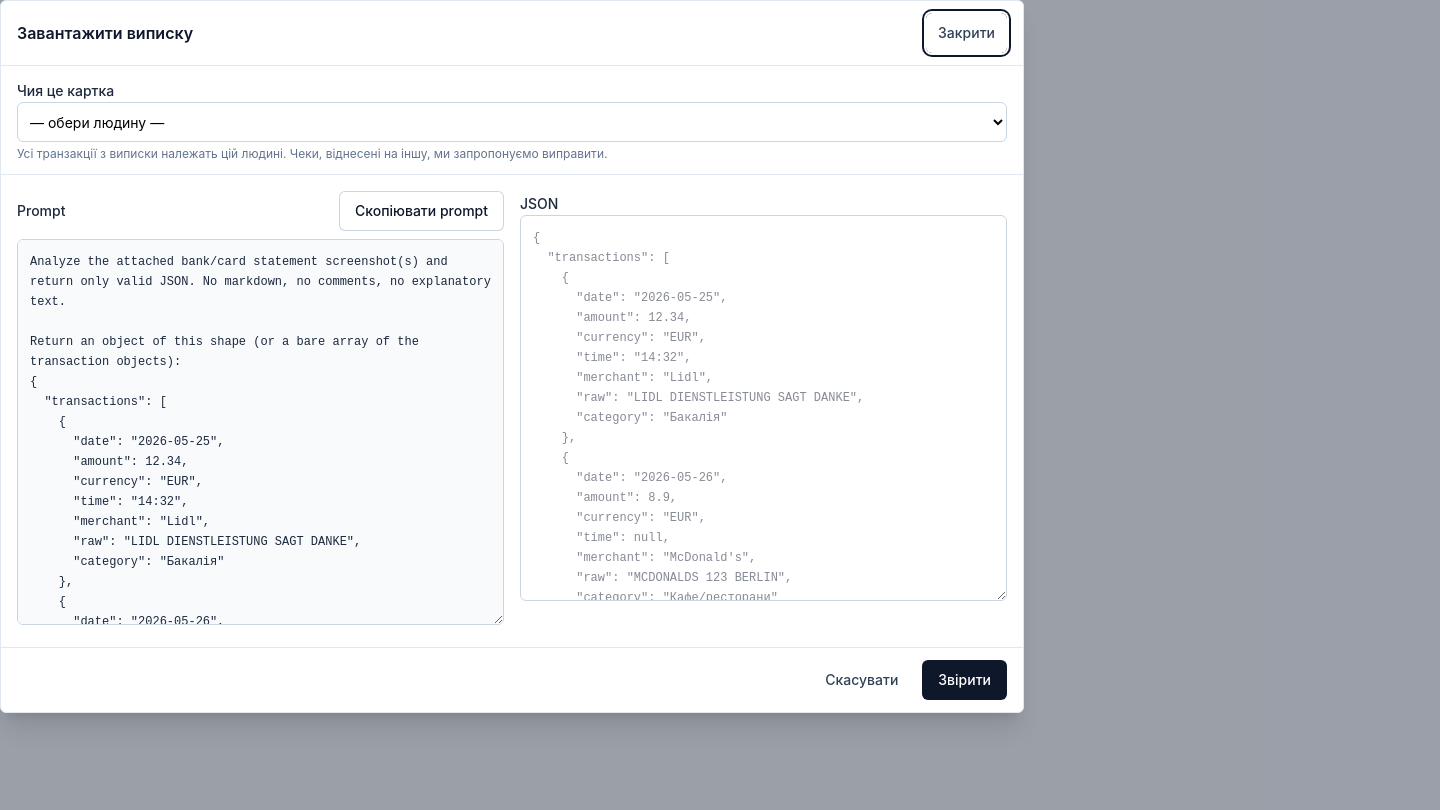
Test: StatementImportDialog › shows a friendly error for invalid JSON
Select "b@example.com" in the dropdown labelled "Чия це картка" at (512, 122), box 17,102 -> 1007,142
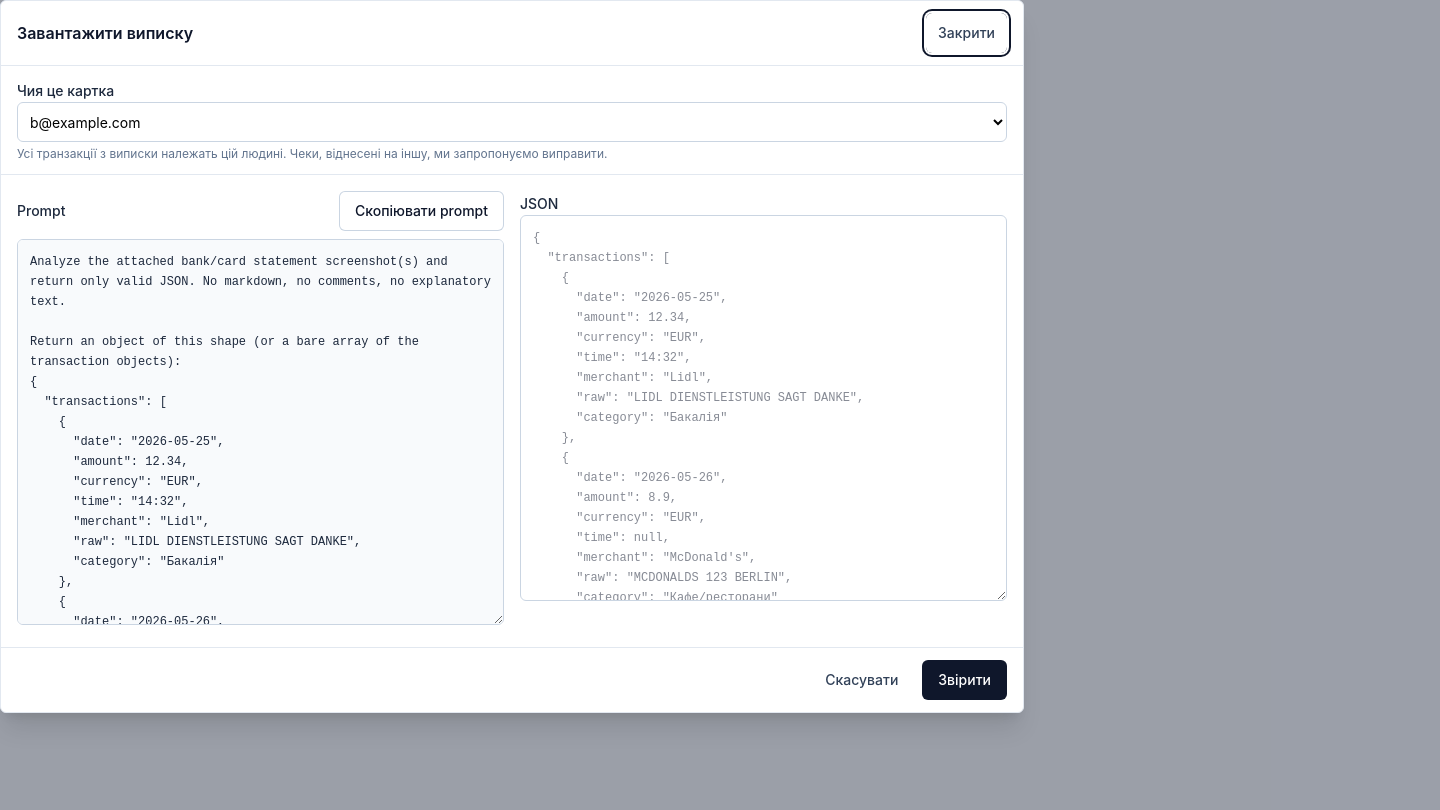
Replace the text in the text box labelled "JSON" with "not json" at (764, 408), box 520,215 -> 1007,601
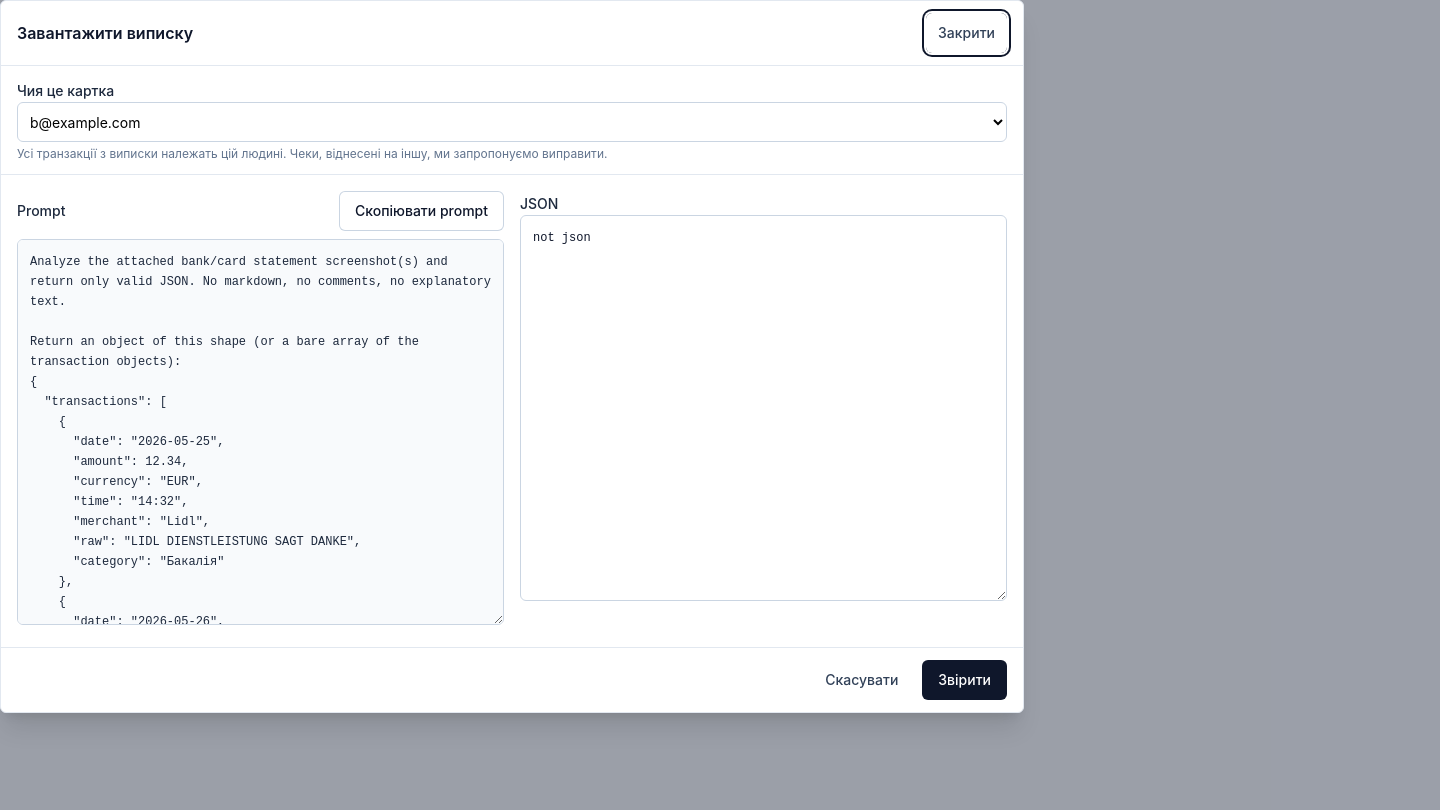
Click the button "Звірити" at (965, 680), box 922,660 -> 1007,700
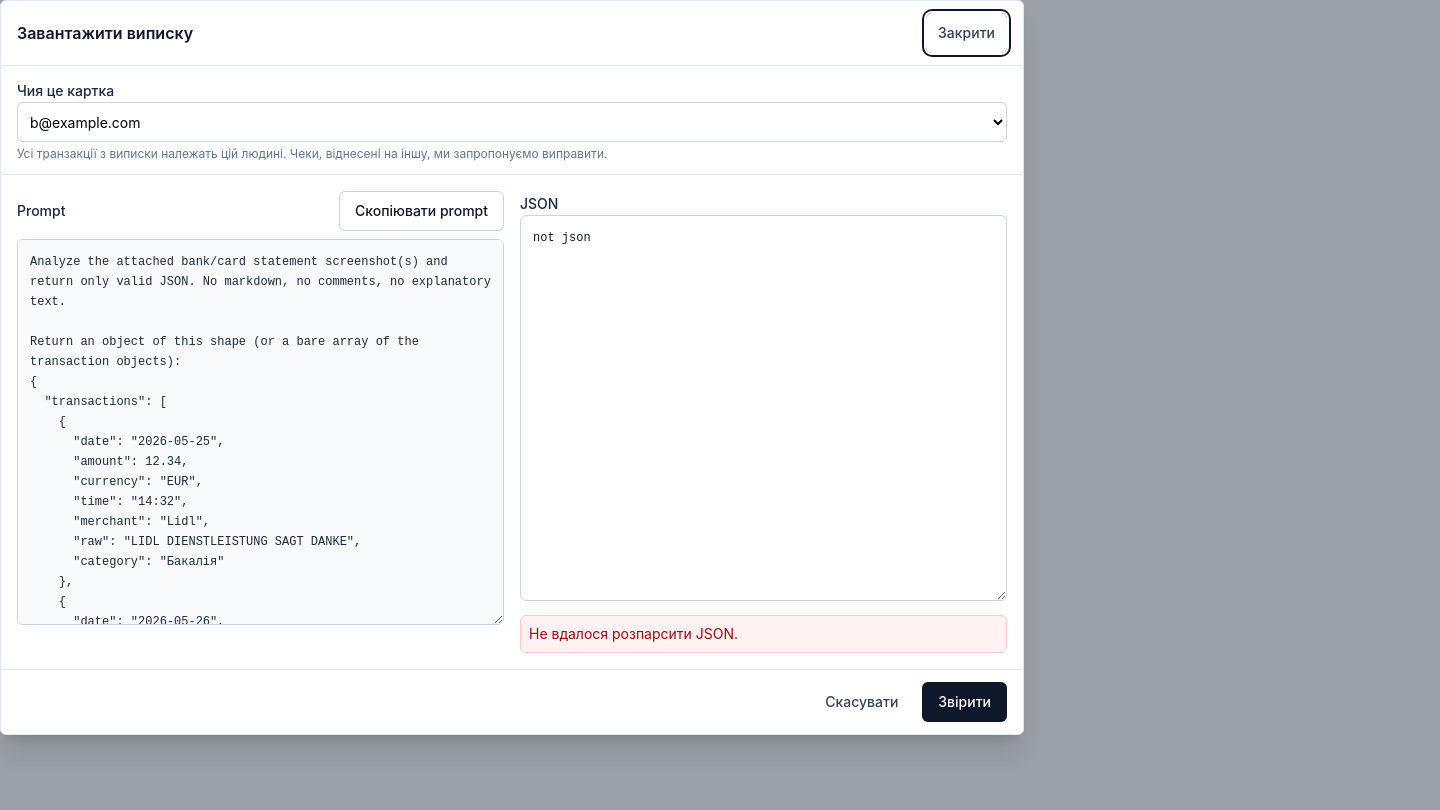
Expected: the message shows "Не вдалося розпарсити JSON", 529,625 -> 738,642
